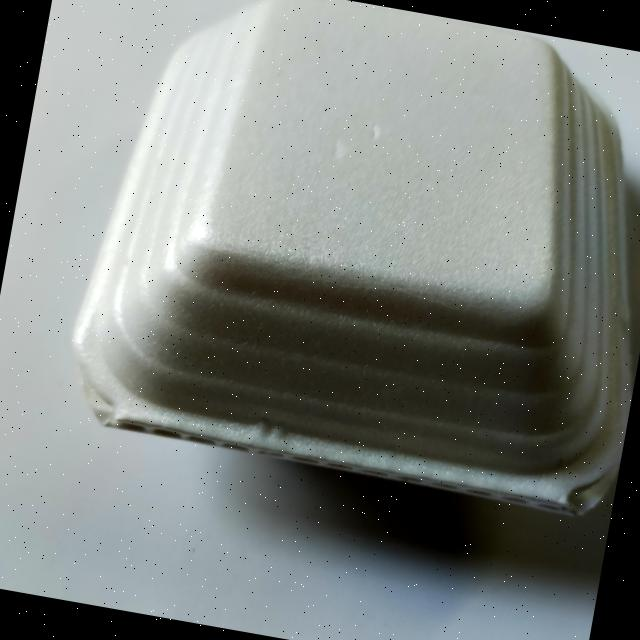styrofoam: (54, 0, 640, 524)
